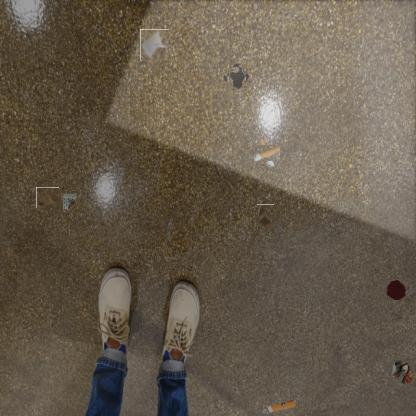dirty: (140, 29, 169, 60), (392, 358, 416, 386), (262, 398, 298, 416), (256, 204, 274, 233), (255, 142, 277, 165), (36, 187, 59, 208), (60, 190, 78, 212)
liquid: (226, 65, 248, 89), (384, 278, 406, 300)
